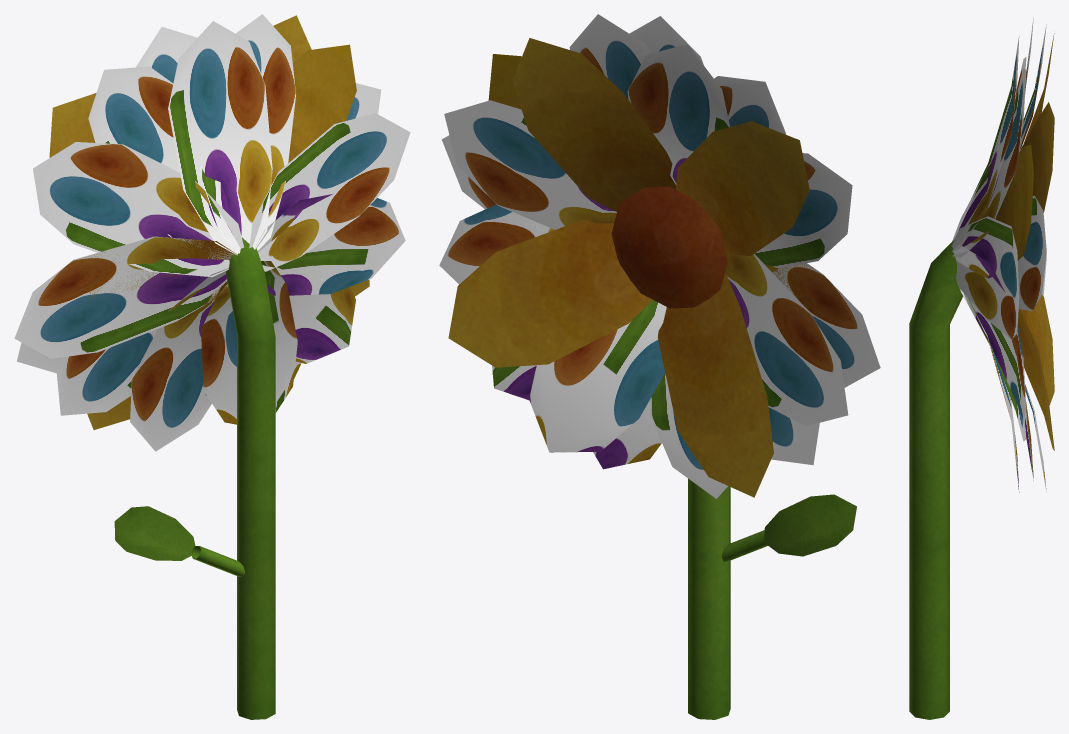
The model's file is Flower3.fbx.
The picture shows the model from 3 angles, left to right: view 1: azimuth 30°, elevation 25°; view 2: azimuth 150°, elevation 25°; view 3: azimuth 270°, elevation 25°; orthographic projection. The views are drawn at different scales.
Parts seen in each view (by area): view 1: Flower3; view 2: Flower3; view 3: Flower3.
Part boxes in pixels (x1,y1,x2,y2): Flower3: (14,14,410,719); Flower3: (439,14,880,719); Flower3: (909,17,1054,719).
Size of the model in its own units: 2.6 by 4.13 by 0.8049.
